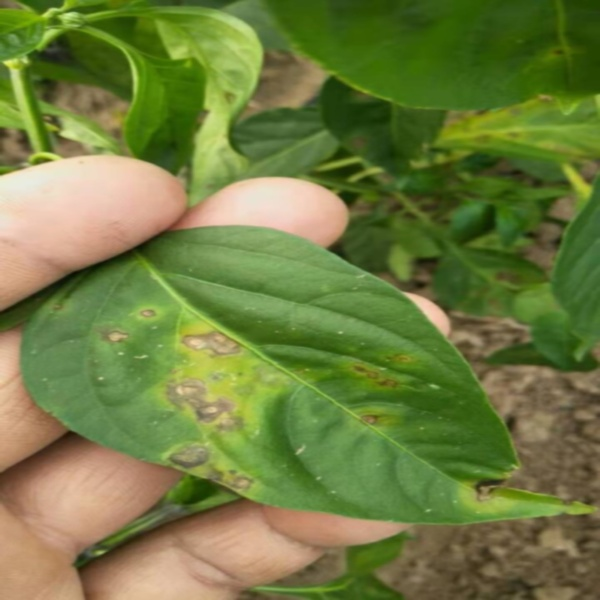Anthrax: (100, 302, 268, 496), (348, 351, 412, 431), (455, 459, 526, 516)
